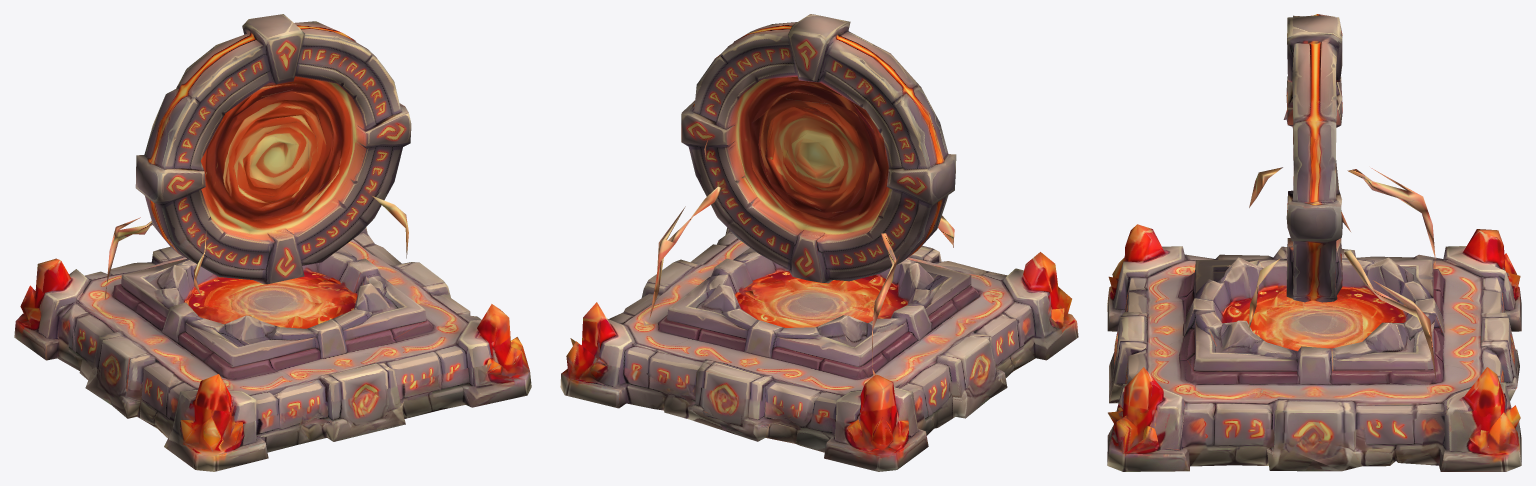
Rendered from SummoningAltar.fbx.
3 views of the same model, side by side, from view 1: azimuth 30°, elevation 25°; view 2: azimuth 150°, elevation 25°; view 3: azimuth 270°, elevation 25° (orthographic). The views are drawn at different scales.
Visible parts, largest first — view 1: Mesh_0; view 2: Mesh_0; view 3: Mesh_0.
Boxes of the visible parts, x1,y1,x2,y2 form: Mesh_0: (14, 14, 531, 471); Mesh_0: (560, 14, 1078, 471); Mesh_0: (1107, 14, 1521, 471).
Size of the model in its own units: 192 by 183 by 190.
Materials: 1 (1 with a texture image).
